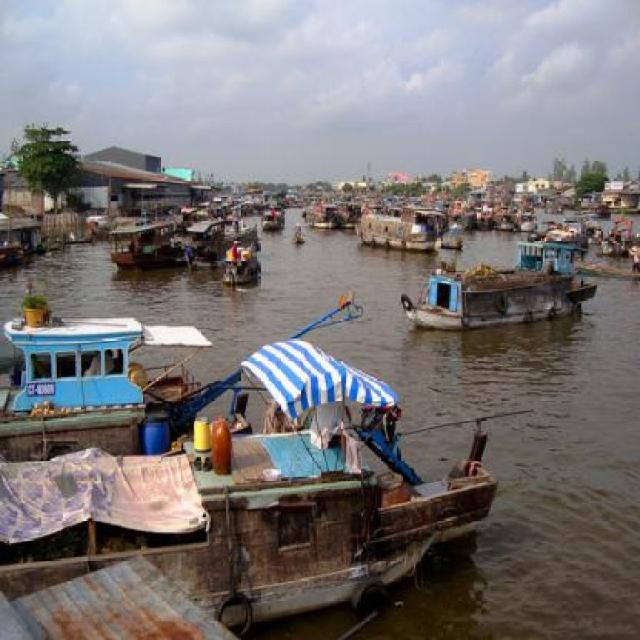ship: (1, 431, 479, 612), (0, 278, 215, 456), (395, 242, 587, 341), (348, 204, 450, 253), (96, 212, 179, 268)
